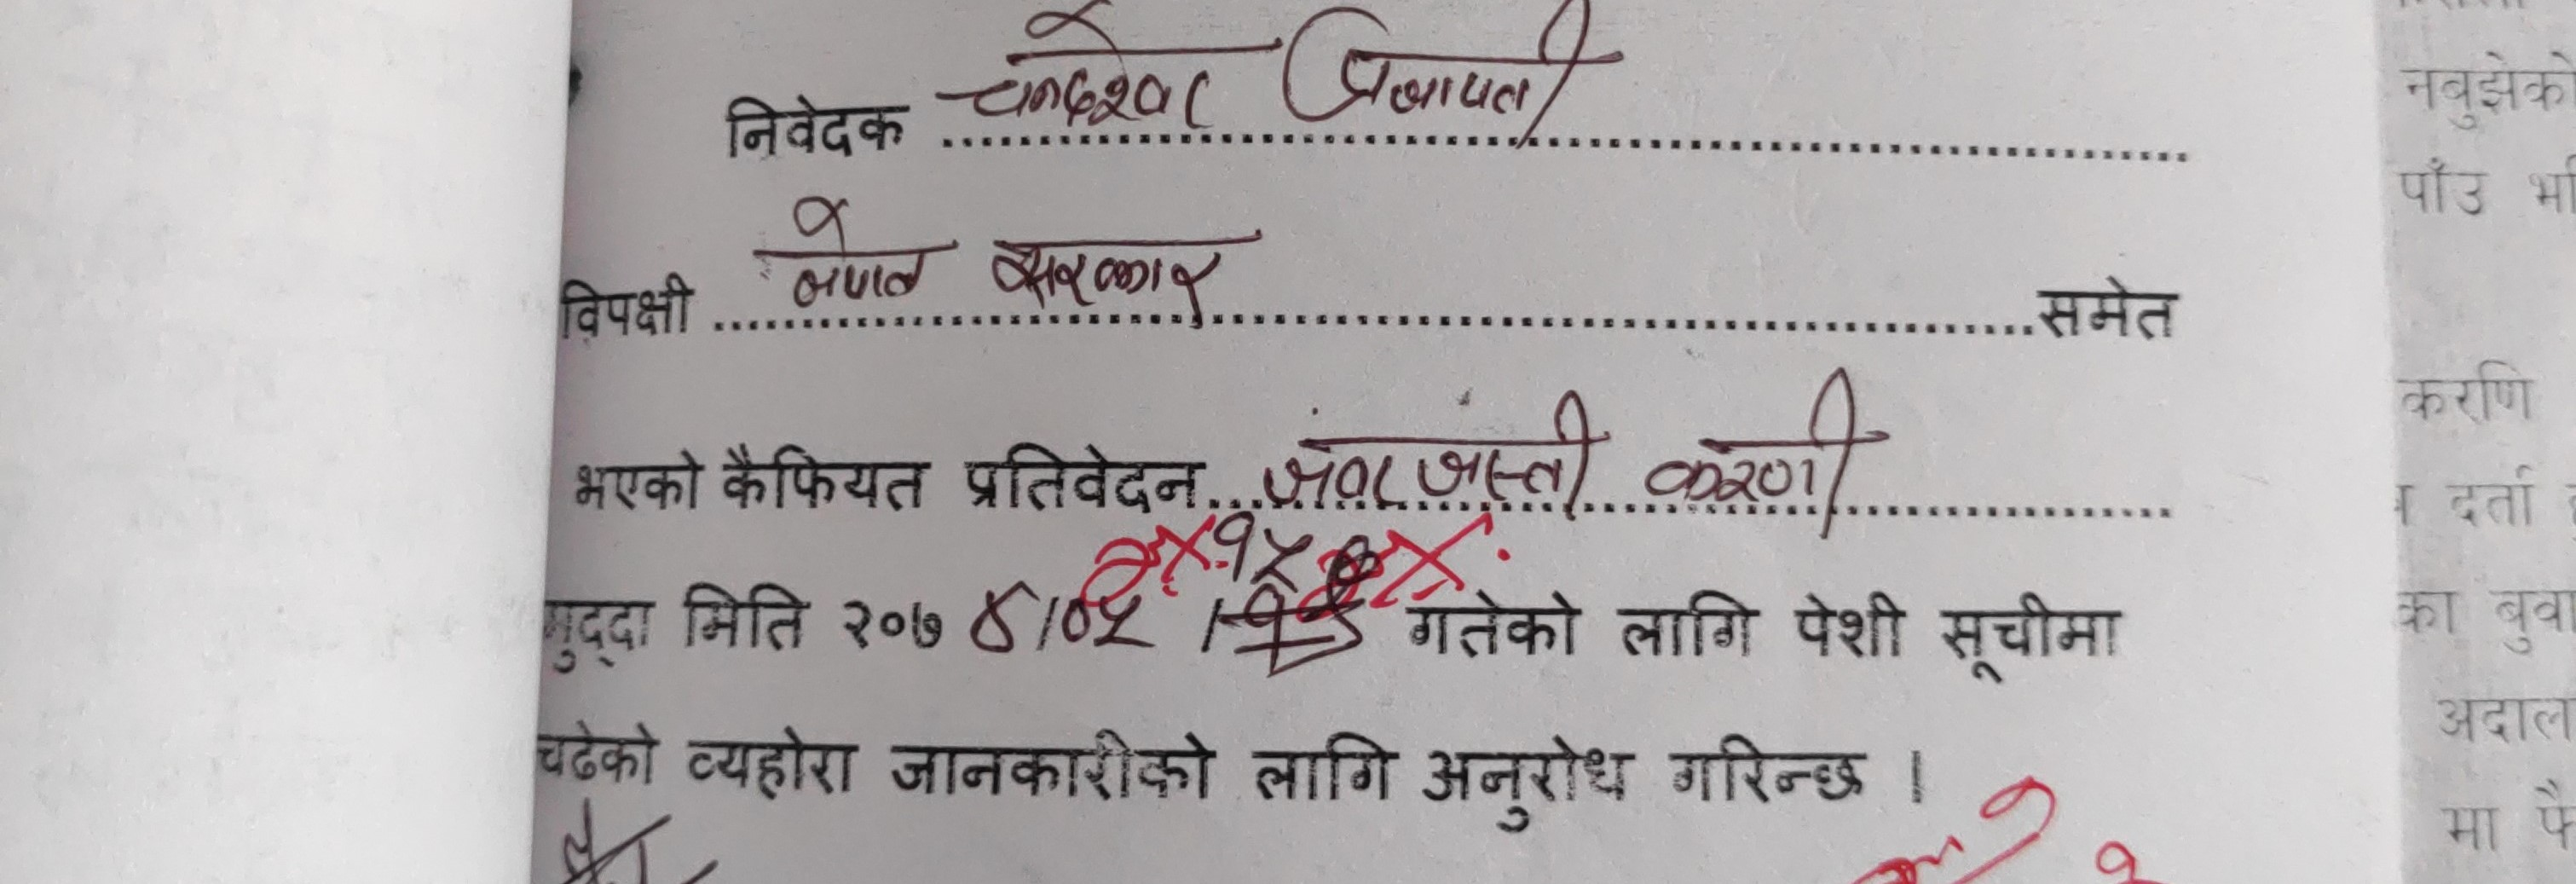text: (1281, 2, 1603, 138), (1260, 381, 1600, 508), (933, 8, 1226, 135), (1640, 366, 1871, 508), (969, 230, 1255, 312), (764, 196, 938, 311)
